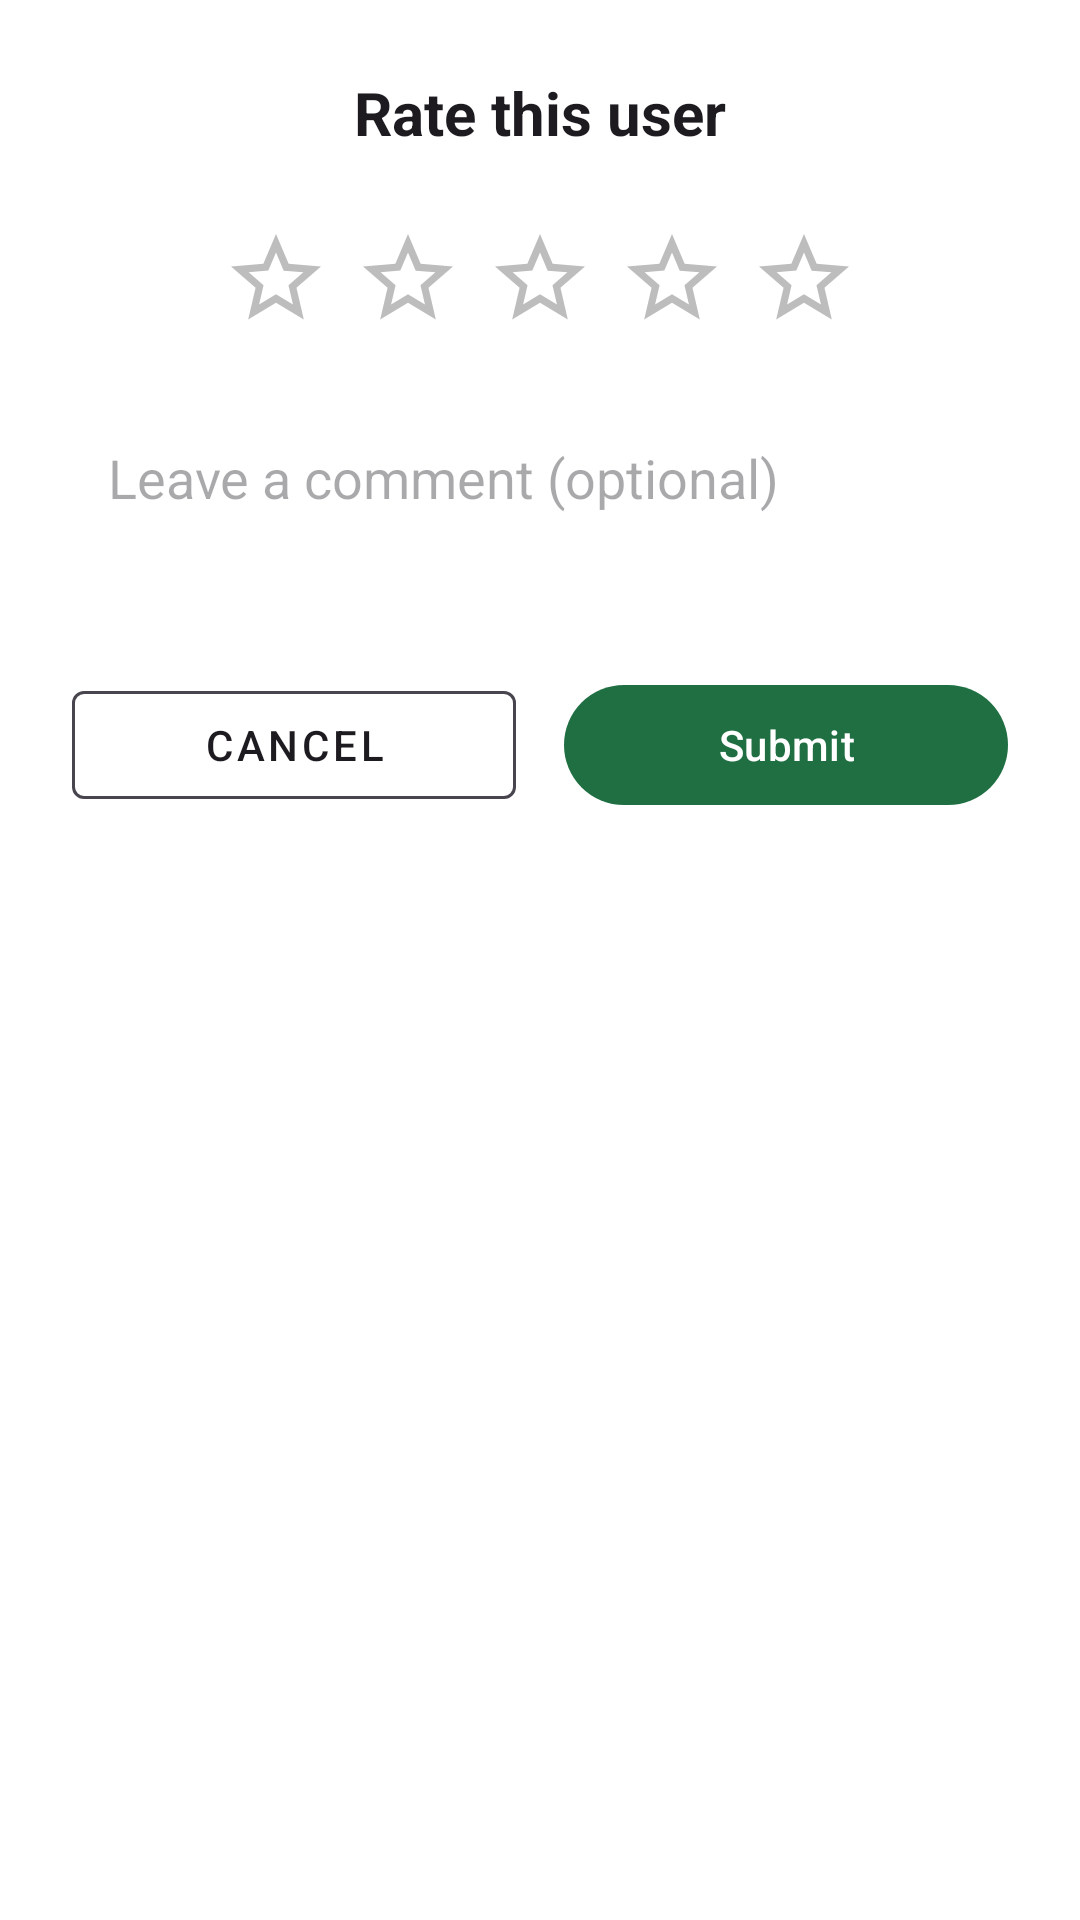

Screen size 1080px×1920px. Icon name, then its box in pixels as (x1, y1, x2, y2):
1 star: (231, 235, 321, 319)
2 stars: (363, 235, 453, 319)
3 stars: (495, 235, 585, 319)
4 stars: (627, 235, 717, 319)
5 stars: (759, 235, 849, 319)
